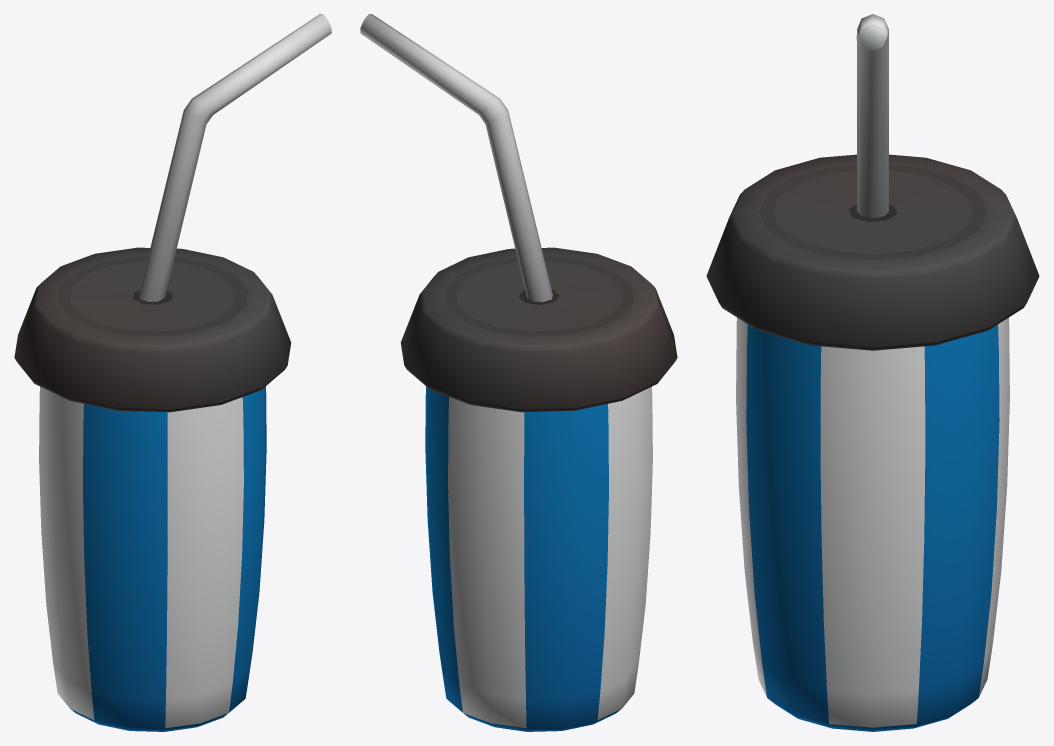
Rendered from soda_002.fbx.
3 views of the same model, side by side, from view 1: azimuth 30°, elevation 25°; view 2: azimuth 150°, elevation 25°; view 3: azimuth 270°, elevation 25° (orthographic). The views are drawn at different scales.
Visible parts, largest first — view 1: soda_002; view 2: soda_002; view 3: soda_002.
Boxes of the visible parts, bbox=[...] form: soda_002: bbox=[14, 14, 331, 731]; soda_002: bbox=[360, 14, 677, 731]; soda_002: bbox=[706, 14, 1039, 731].
Bounding box in the file's own units: 13.01 × 10.62 × 26.81.
